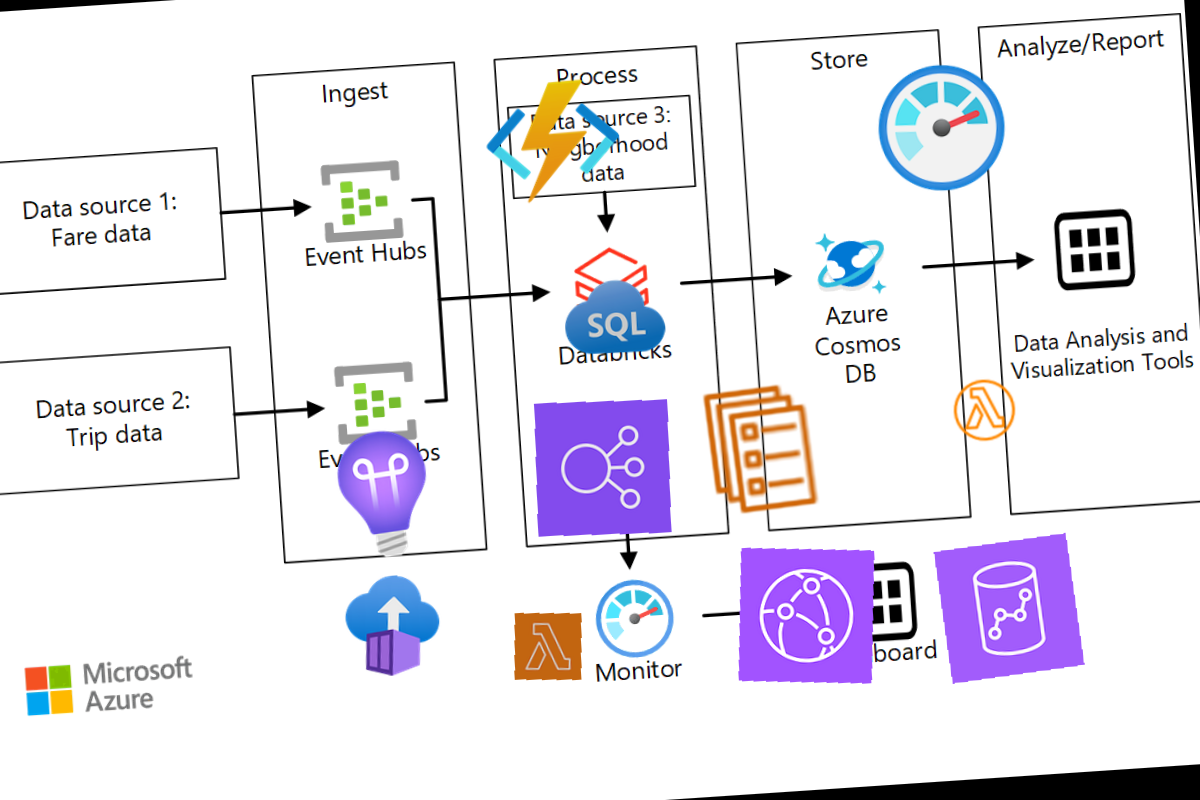aws_amazon_cloudfront: (728, 538, 883, 693)
aws_amazon_redshift: (932, 532, 1085, 684)
aws_elastic_container_service_service: (684, 372, 837, 525)
aws_elastic_load_balancing: (528, 393, 676, 542)
aws_lambda: (509, 607, 586, 685)
aws_lambda_lambda_function: (947, 373, 1020, 446)
azure_application_insights: (307, 416, 462, 571)
azure_container_instances: (334, 568, 449, 683)
azure_function_apps: (479, 68, 625, 214)
azure_monitor: (867, 53, 1015, 201)
azure_sql: (560, 264, 668, 372)
